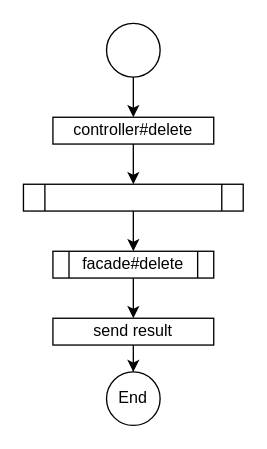
Some shapes in this 267 by 449 pixel diagram are drawn without their labels. Each missing label, with the centre of its shape:
"facade#experimentById" goes at [132,197].
"Start" goes at [132,49].
